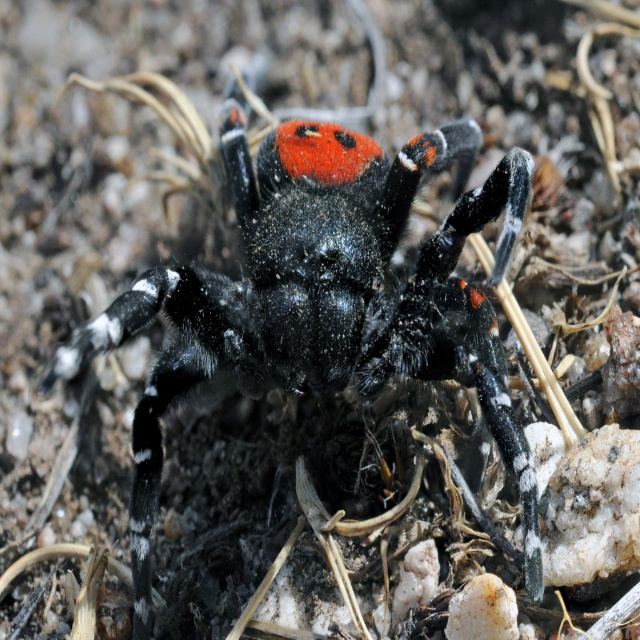Spider: (28, 67, 545, 640)
